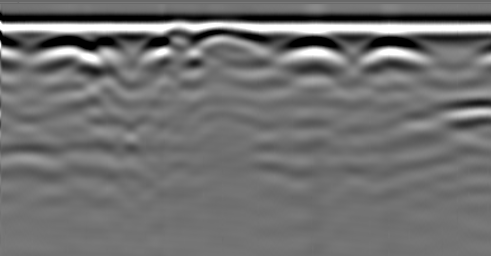pipe: (198, 24, 264, 45), (165, 21, 192, 45)
steel: (362, 36, 431, 68), (279, 36, 349, 66), (33, 35, 95, 66)
